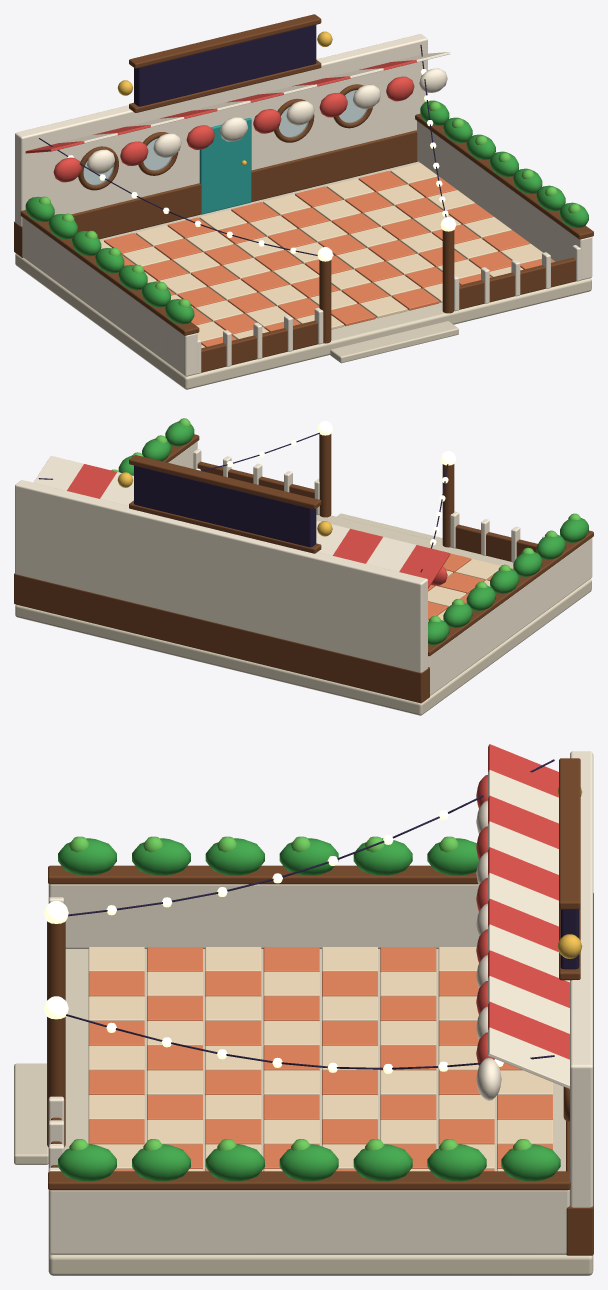
The model's file is cafe_shell.glb.
The picture shows the model from 3 angles, top to bottom: view 1: azimuth 30°, elevation 25°; view 2: azimuth 150°, elevation 25°; view 3: azimuth 270°, elevation 25°; orthographic projection. The views are drawn at different scales.
Parts seen in each view (by area): view 1: cafe_shell; view 2: cafe_shell; view 3: cafe_shell.
Boxes of the visible parts, x1=… form: cafe_shell: x1=14, y1=14, x2=593, y2=389; cafe_shell: x1=14, y1=418, x2=593, y2=715; cafe_shell: x1=14, y1=744, x2=593, y2=1275.
Bounding box in the file's own units: 9.81 × 4.11 × 7.45.
